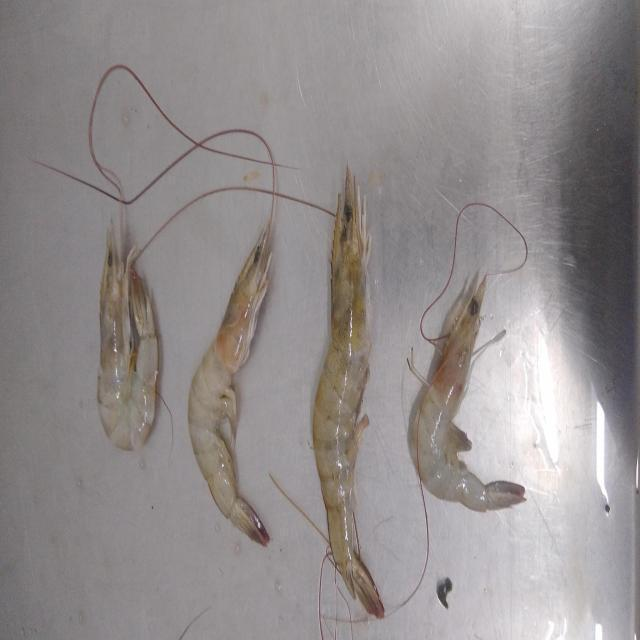shrimp: (312, 169, 384, 618), (409, 278, 525, 513), (188, 222, 271, 547), (98, 224, 158, 451)
